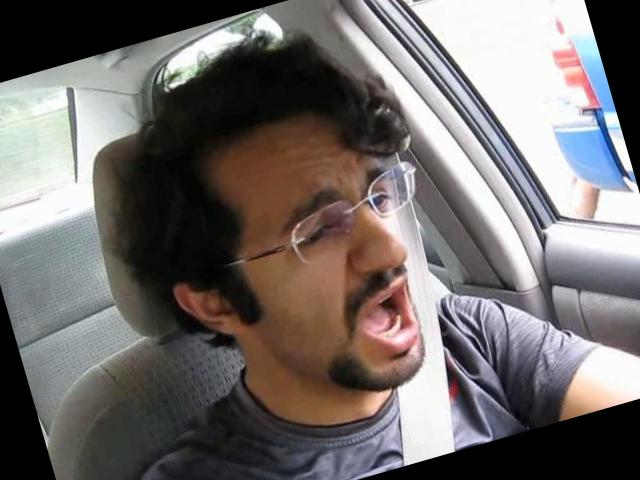eye_open: (285, 211, 348, 252), (364, 178, 399, 215)
face: (240, 142, 457, 399)
mouth_open: (322, 252, 430, 362)
